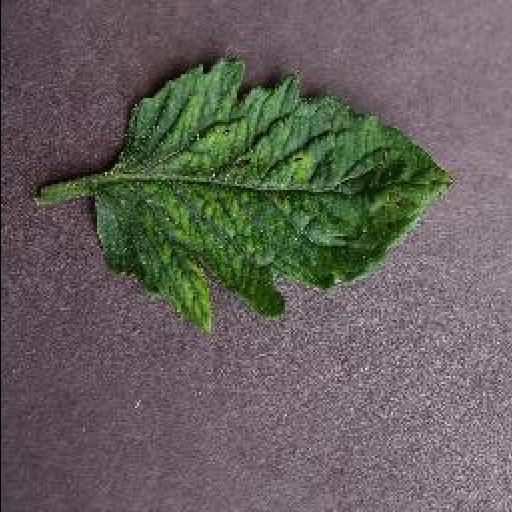Mosaic Virus: (89, 57, 451, 331)
